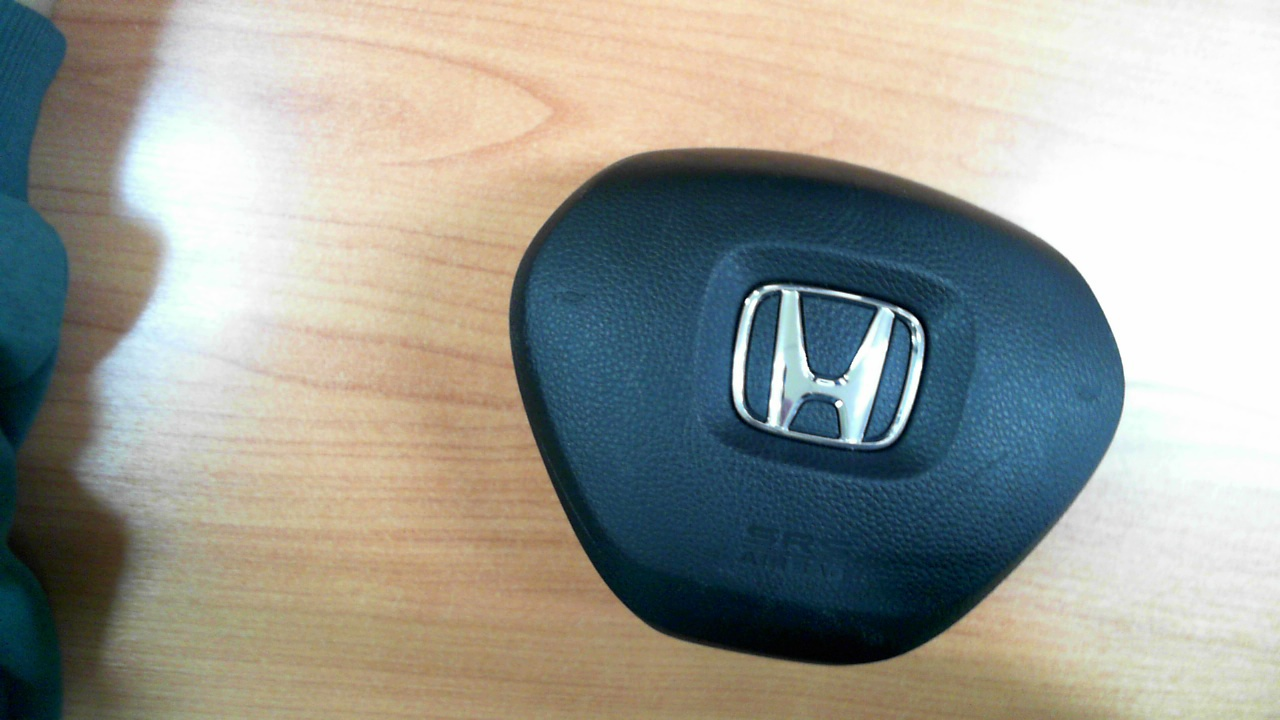Airbag: (508, 146, 1125, 667)
Honda: (731, 283, 926, 451)
